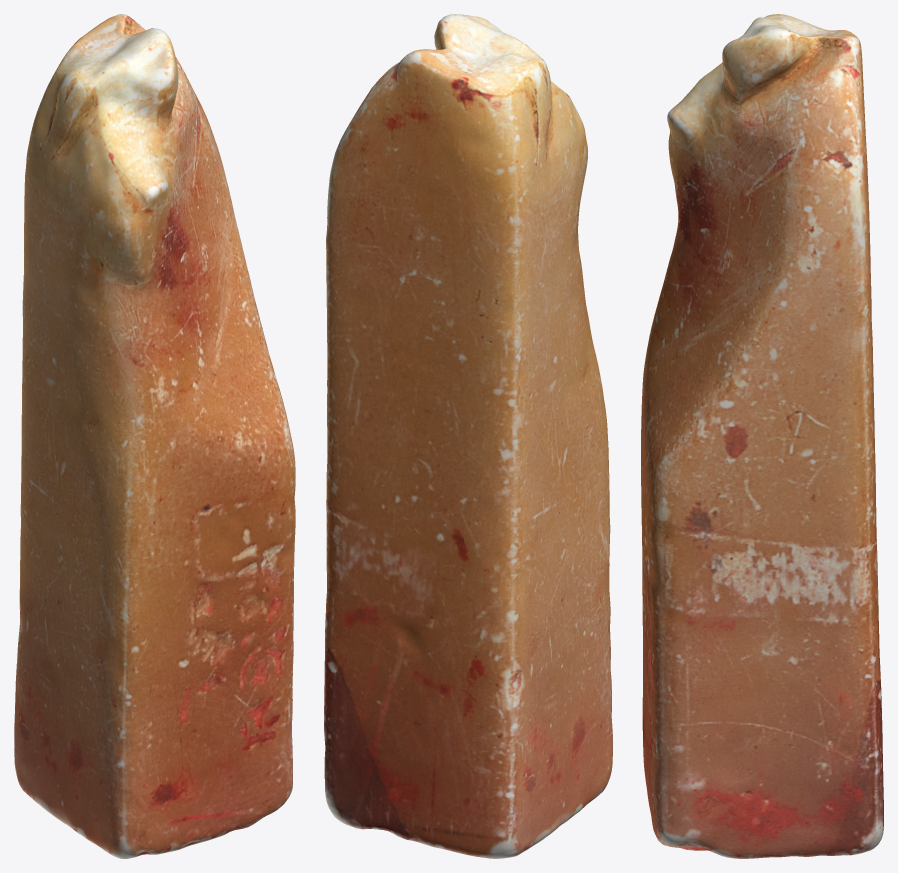
The picture shows the model from 3 angles, left to right: view 1: azimuth 30°, elevation 25°; view 2: azimuth 150°, elevation 25°; view 3: azimuth 270°, elevation 25°; orthographic projection. The views are drawn at different scales.
Visible parts, largest first — view 1: lowpoly.008; view 2: lowpoly.008; view 3: lowpoly.008.
Boxes of the visible parts, x1,y1,x2,y2 form: lowpoly.008: (14,14,295,858); lowpoly.008: (324,14,612,858); lowpoly.008: (641,14,883,858).
Size of the model in its own units: 3.93 by 14.93 by 4.12.
1 material, 1 textured.
